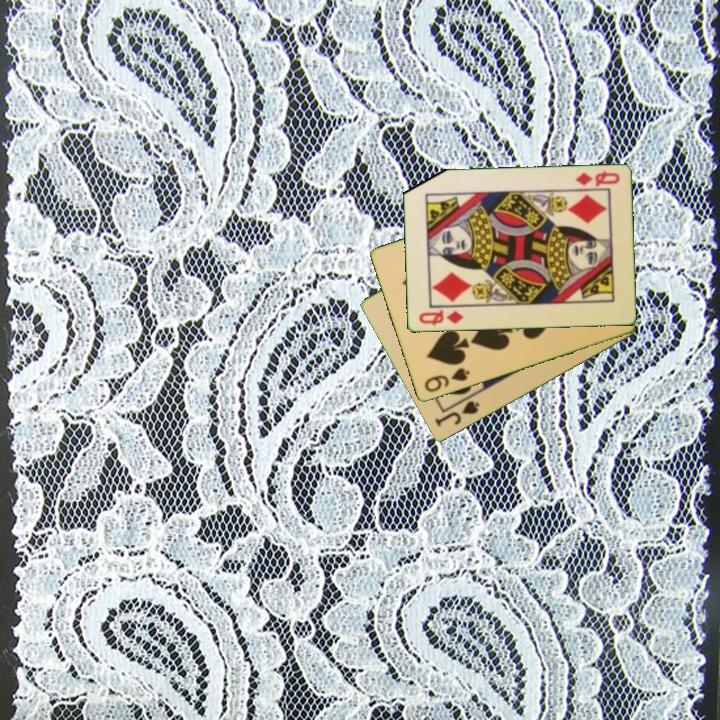9s: (421, 365, 472, 396)
Js: (431, 397, 483, 429)
Qd: (415, 306, 466, 329), (571, 168, 622, 190)
